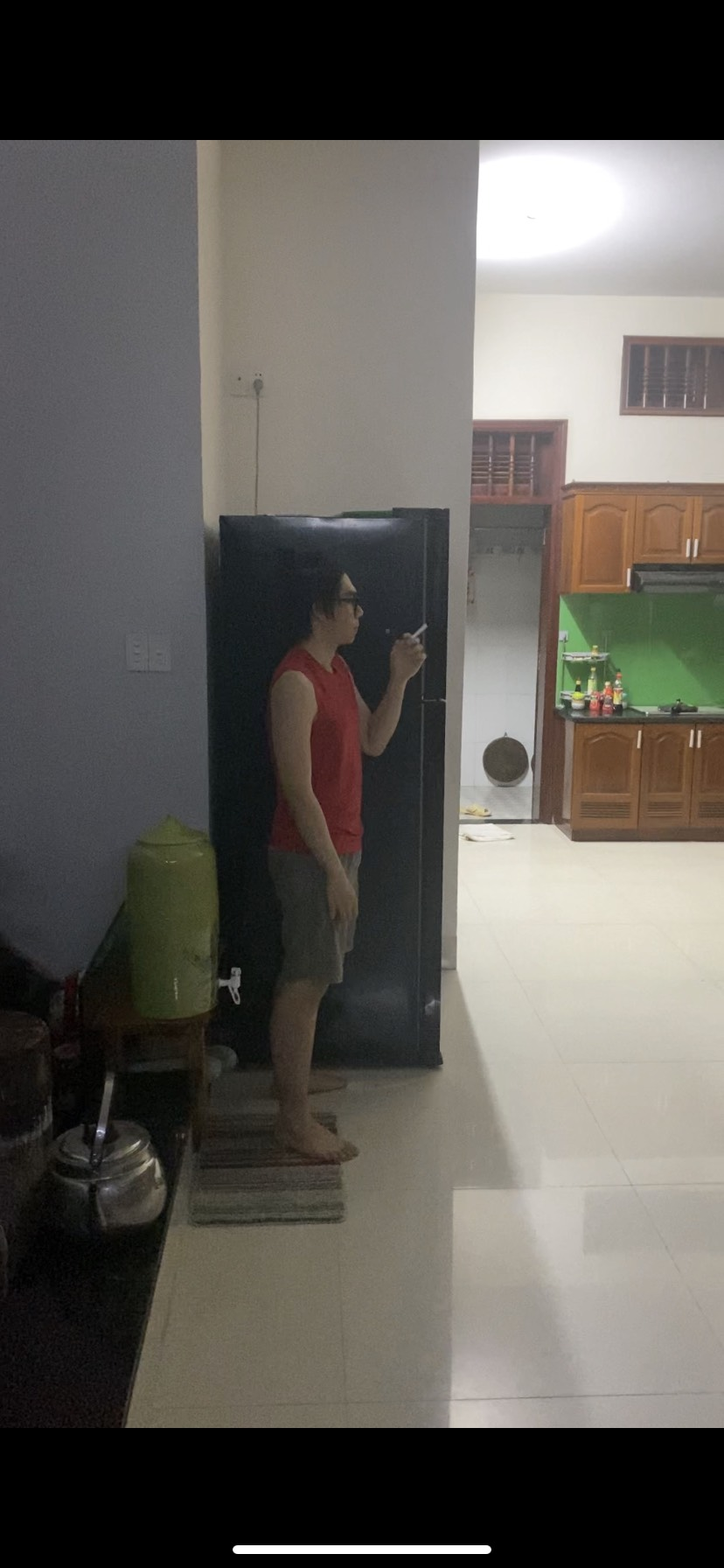cigarette: (412, 620, 432, 639)
person: (258, 523, 436, 1176)
